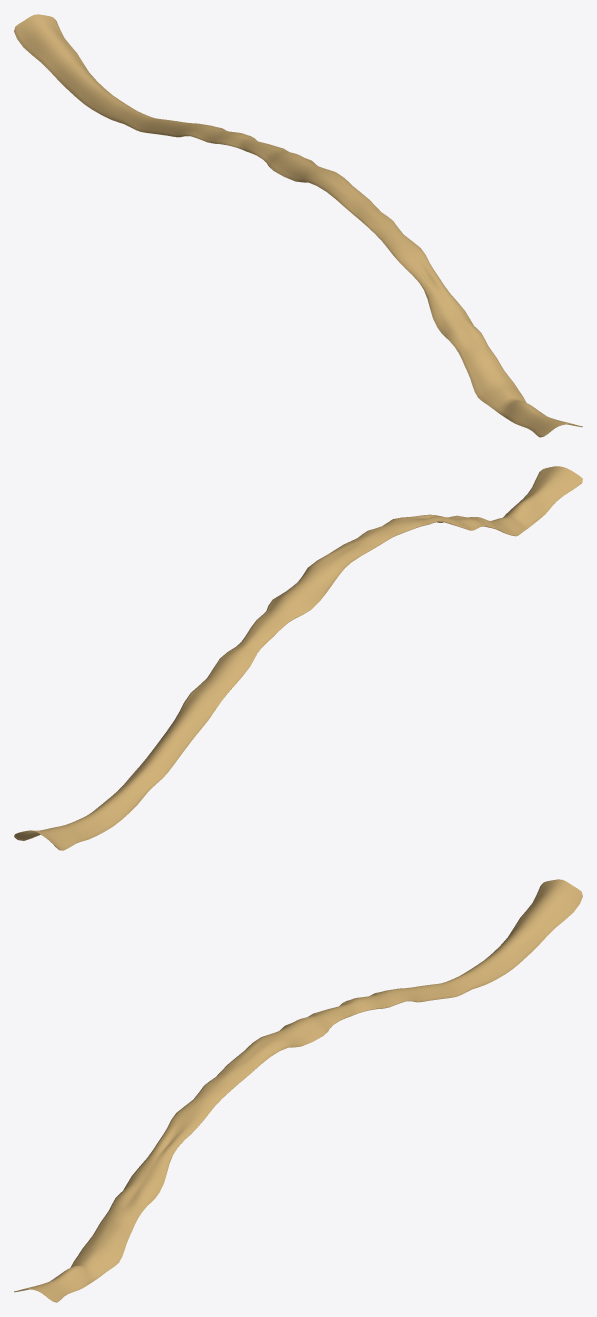
3 renders of one model, top to bottom at view 1: azimuth 30°, elevation 25°; view 2: azimuth 150°, elevation 25°; view 3: azimuth 330°, elevation 25°, orthographic.
Parts seen in each view (by area): view 1: 黄韧带; view 2: 黄韧带; view 3: 黄韧带.
Boxes of the visible parts, x1,y1,x2,y2 form: 黄韧带: [14, 14, 582, 437]; 黄韧带: [14, 466, 582, 850]; 黄韧带: [14, 879, 582, 1302].
Size of the model in its own units: 0.0385 by 0.0854 by 0.8218.
